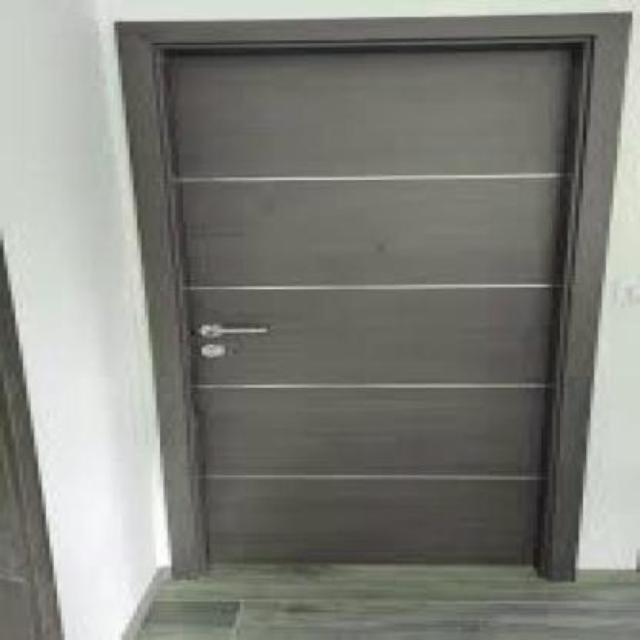Door: (101, 8, 640, 598)
